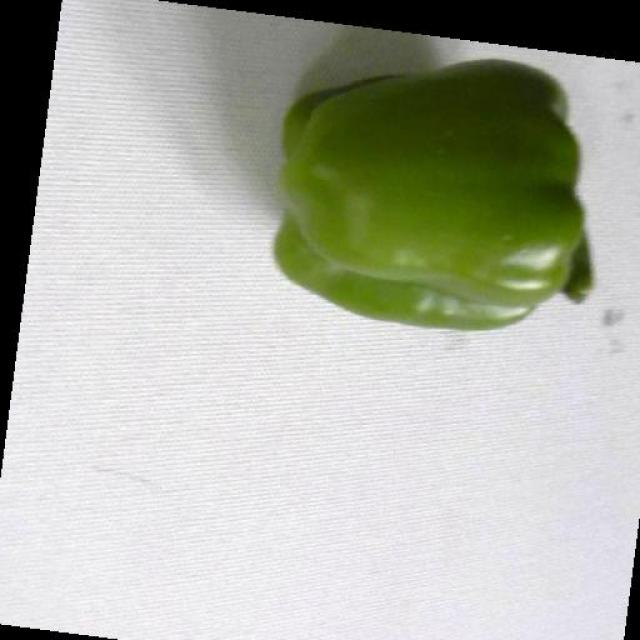Fresh_Capsicum: (250, 78, 630, 315)
